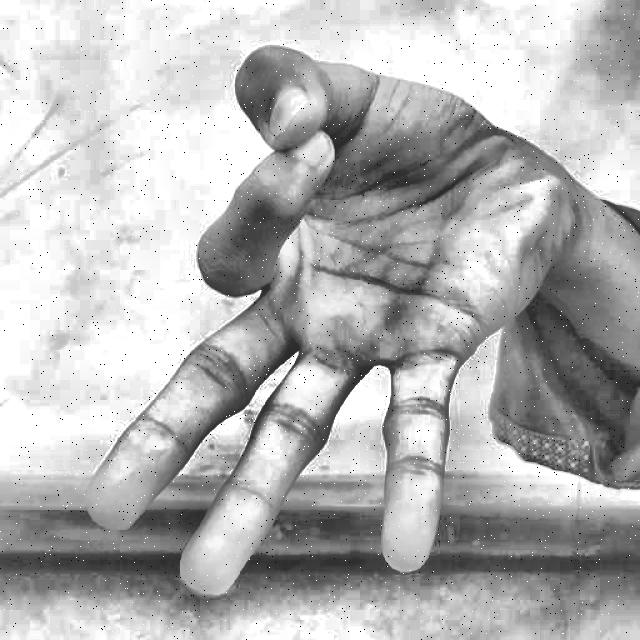Fa: (50, 30, 578, 616)
